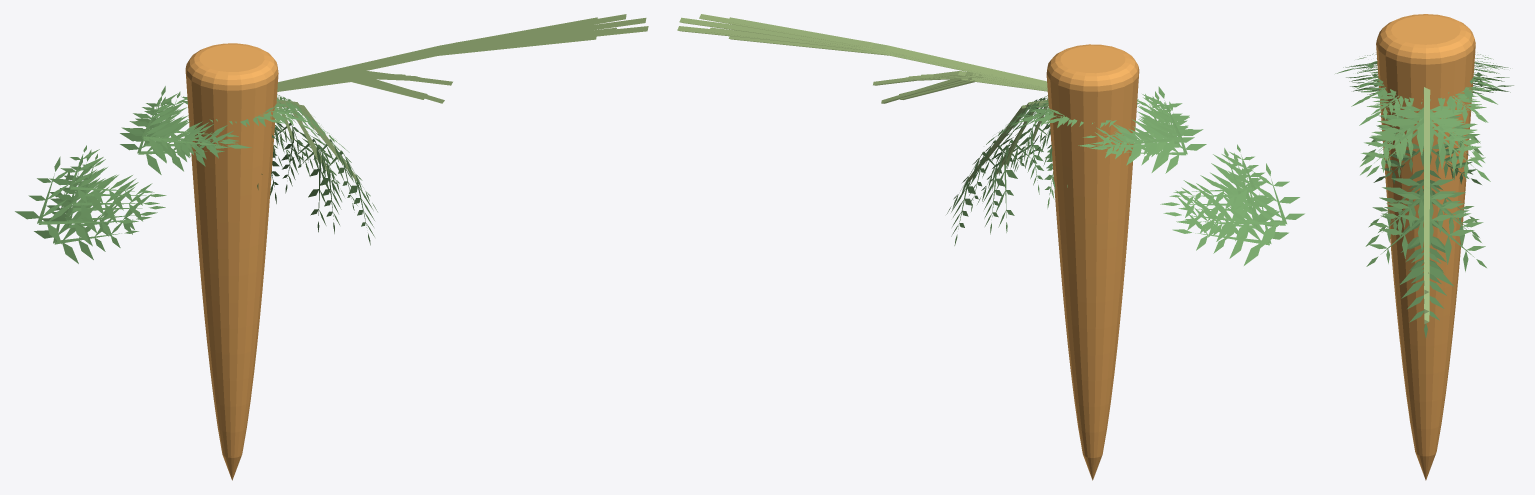
File: carrot_harvest_v12.articulated.glb
3 views of the same model, side by side, from view 1: azimuth 30°, elevation 25°; view 2: azimuth 150°, elevation 25°; view 3: azimuth 270°, elevation 25° (orthographic). The views are drawn at different scales.
Parts seen in each view (by area): view 1: root, leaf05_link2, leaf04_link2, leaf07_link2, leaf04_link0, leaf00_link2, leaf01_link2, leaf03_link2, leaf02_link2, leaf05_link0, leaf06_link2, leaf02_link0 (+2 smaller); view 2: root, leaf05_link2, leaf07_link2, leaf04_link2, leaf00_link2, leaf01_link2, leaf06_link0, leaf03_link2, leaf02_link2, leaf06_link2, leaf05_link0, leaf01_link0 (+2 smaller); view 3: root, leaf04_link2, leaf00_link2, leaf01_link2, leaf05_link2, leaf07_link2, leaf02_link2, leaf06_link0, leaf03_link2, leaf06_link2.
Boxes of the visible parts, x1,y1,x2,y2 form: root: (185,43,278,480); leaf05_link2: (15,96,341,243); leaf04_link2: (34,86,377,263); leaf07_link2: (49,96,311,203); leaf04_link0: (277,26,648,89); leaf00_link2: (50,94,367,246); leaf01_link2: (51,100,344,236); leaf03_link2: (56,91,295,223); leaf02_link2: (55,96,314,233); leaf05_link0: (278,18,646,82); leaf06_link2: (74,100,288,215); leaf02_link0: (278,14,626,82); root: (1046,44,1139,480); leaf05_link2: (986,86,1304,249); leaf07_link2: (1011,98,1268,210); leaf04_link2: (946,95,1288,265); leaf00_link2: (960,91,1279,241); leaf01_link2: (977,101,1268,246); leaf06_link0: (728,17,1047,87); leaf03_link2: (1021,94,1266,224); leaf02_link2: (1014,101,1273,228); leaf06_link2: (1027,96,1259,209); leaf05_link0: (679,17,1047,87); leaf01_link0: (708,27,1046,87); root: (1376,14,1475,480); leaf04_link2: (1350,62,1513,337); leaf00_link2: (1346,62,1509,278); leaf01_link2: (1352,65,1491,283); leaf05_link2: (1335,60,1510,270); leaf07_link2: (1356,53,1499,205); leaf02_link2: (1350,65,1500,184); leaf06_link0: (1424,87,1430,273); leaf03_link2: (1357,69,1498,175); leaf06_link2: (1357,67,1490,155).
Bounding box in the file's own units: 0.2624 × 0.1737 × 0.0652.
Materials: 1 (1 with a texture image).
